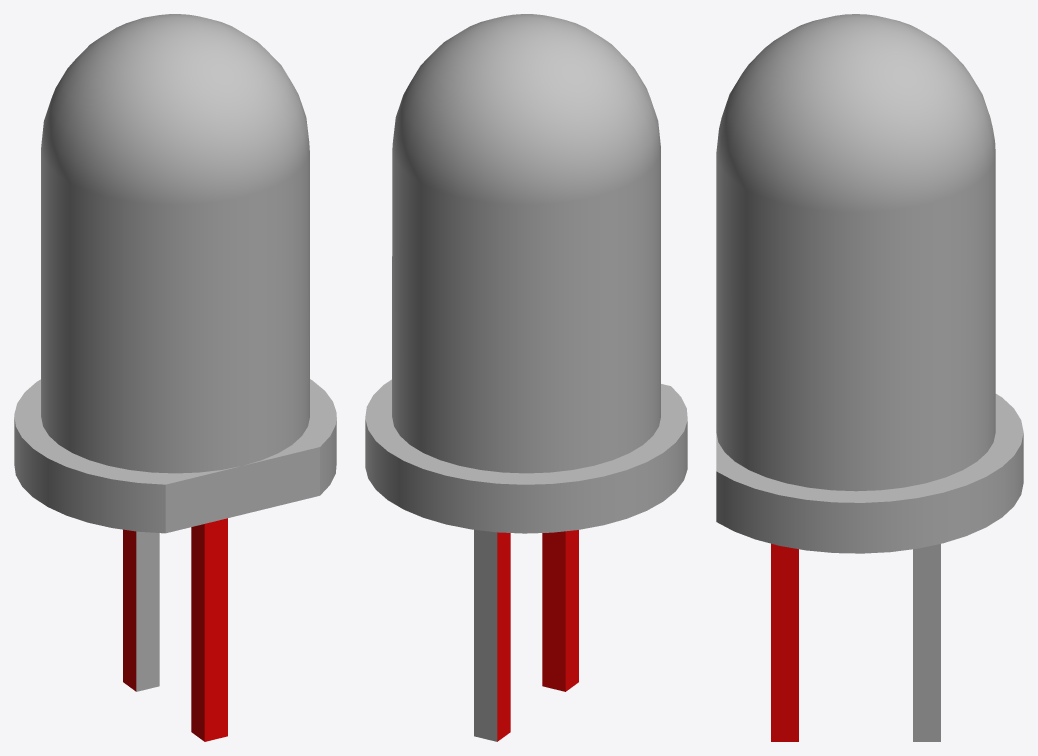
File: LED_5mm_Red.fbx
3 views of the same model, side by side, from view 1: azimuth 30°, elevation 25°; view 2: azimuth 150°, elevation 25°; view 3: azimuth 270°, elevation 25° (orthographic). The views are drawn at different scales.
Visible parts, largest first — view 1: LED_5mm_Rot; view 2: LED_5mm_Rot; view 3: LED_5mm_Rot.
Boxes of the visible parts, x1,y1,x2,y2 form: LED_5mm_Rot: (14, 14, 336, 741); LED_5mm_Rot: (365, 14, 687, 741); LED_5mm_Rot: (716, 14, 1023, 741).
Bounding box in the file's own units: 0.5996 × 1.4 × 0.55.
